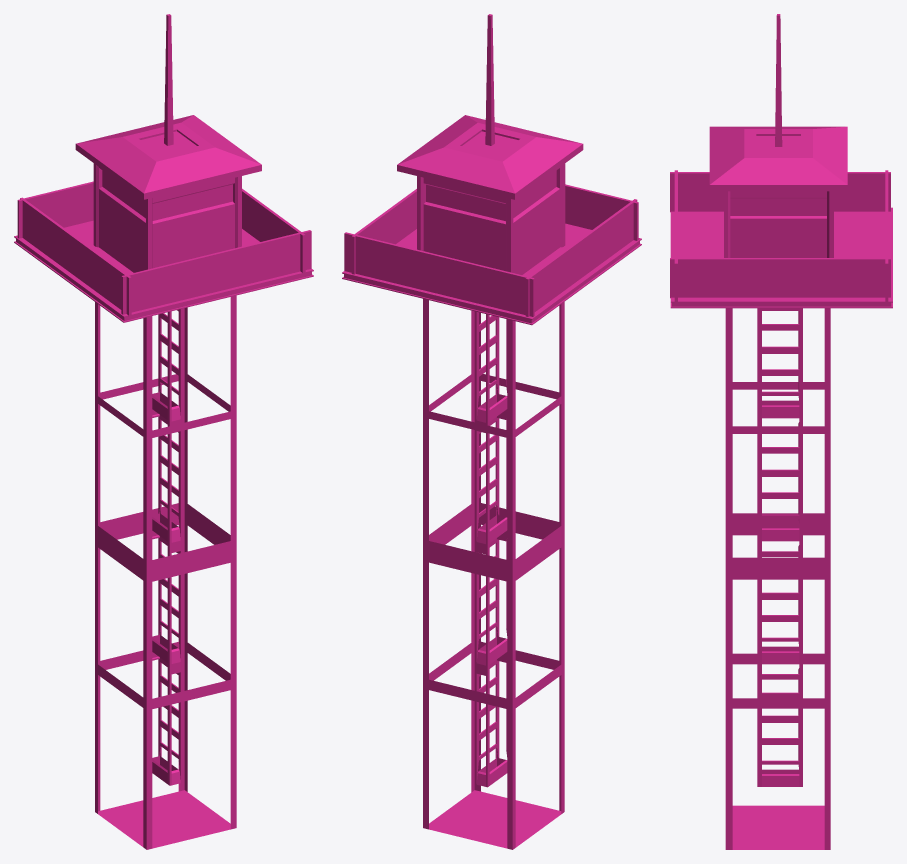
The model's file is WatchtowerPink.fbx.
3 views of the same model, side by side, from view 1: azimuth 30°, elevation 25°; view 2: azimuth 150°, elevation 25°; view 3: azimuth 270°, elevation 25° (orthographic).
Parts seen in each view (by area): view 1: Cube.029; view 2: Cube.029; view 3: Cube.029.
Boxes of the visible parts, bbox=[...] form: Cube.029: bbox=[14, 14, 313, 849]; Cube.029: bbox=[342, 14, 641, 849]; Cube.029: bbox=[670, 14, 892, 849].
Bounding box in the file's own units: 1.68 × 6.78 × 1.68.
